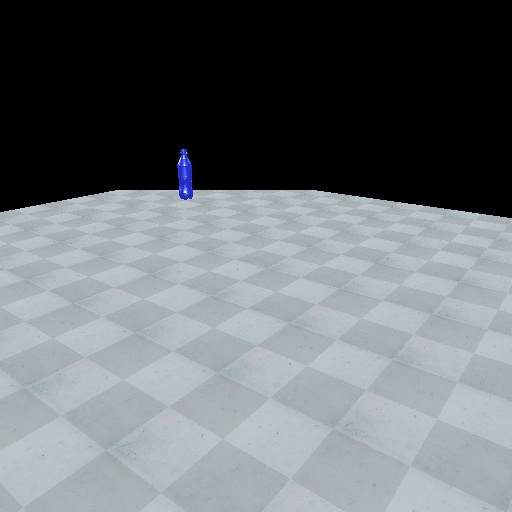bottle: (173, 145, 196, 201)
